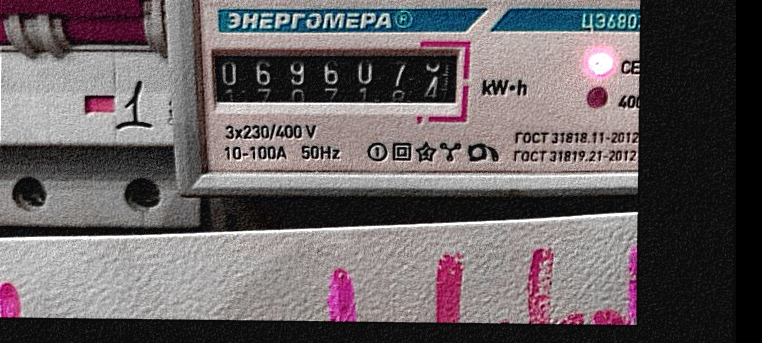0: (356, 57, 375, 87), (221, 59, 239, 87)
4: (423, 73, 441, 102)
6: (323, 57, 341, 87), (255, 59, 273, 87)
7: (390, 58, 410, 89)
9: (288, 59, 307, 87)
screen: (199, 35, 477, 122)
